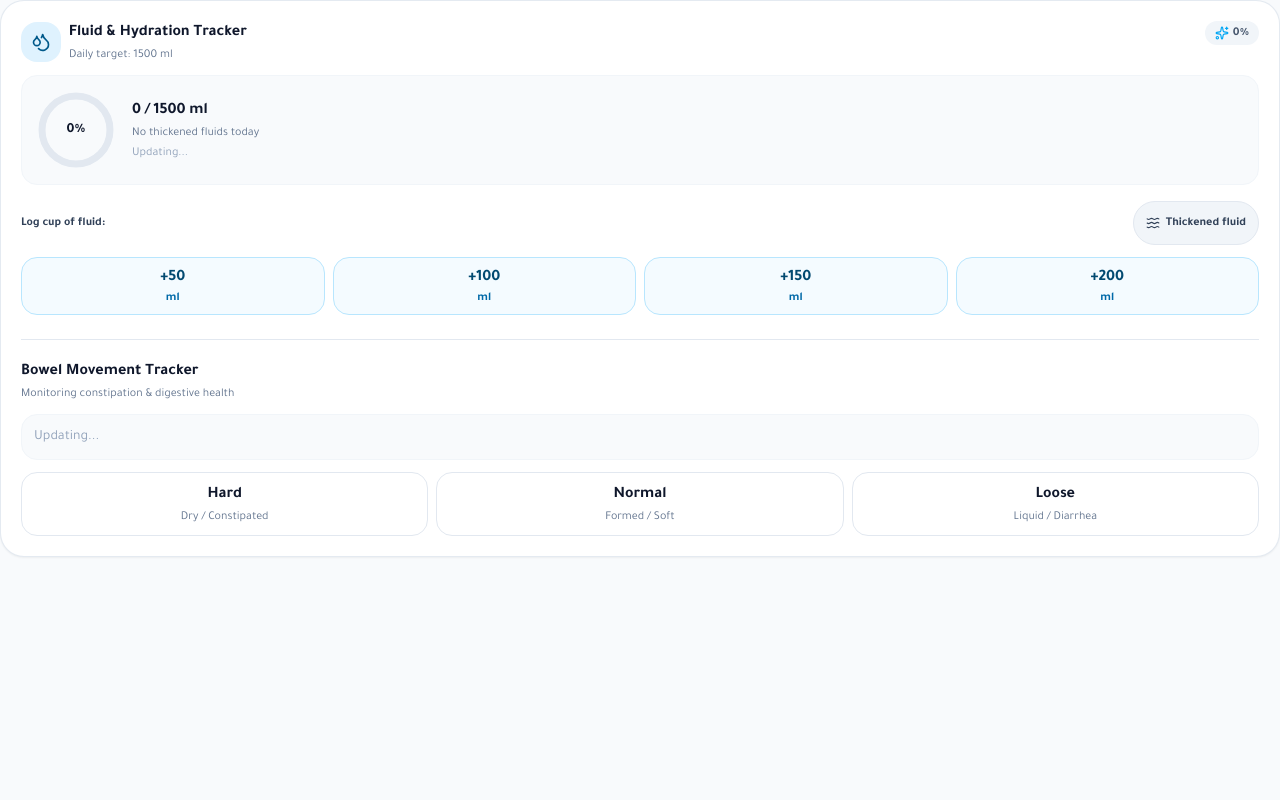
FluidBowelCard (Issue #28) › logs 150 ml fluid on 1-tap and updates today's total
This screenshot has width=1280, height=800.
Click the button with test id "fluid-button-150" at (796, 286), box x1=644 y1=257 x2=948 y2=315
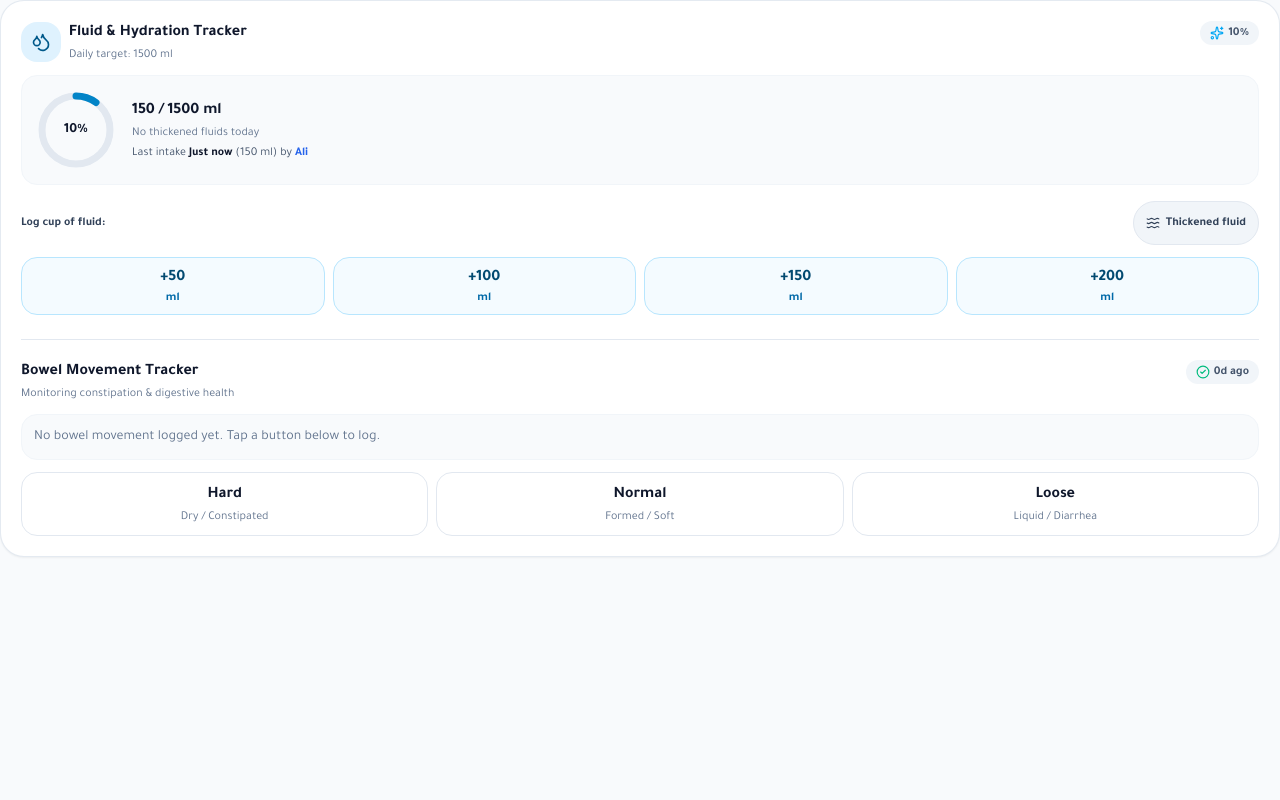
Expected: the element with test id "fluid-status-narrative" shows "150 ml", x1=132 y1=147 x2=308 y2=159
